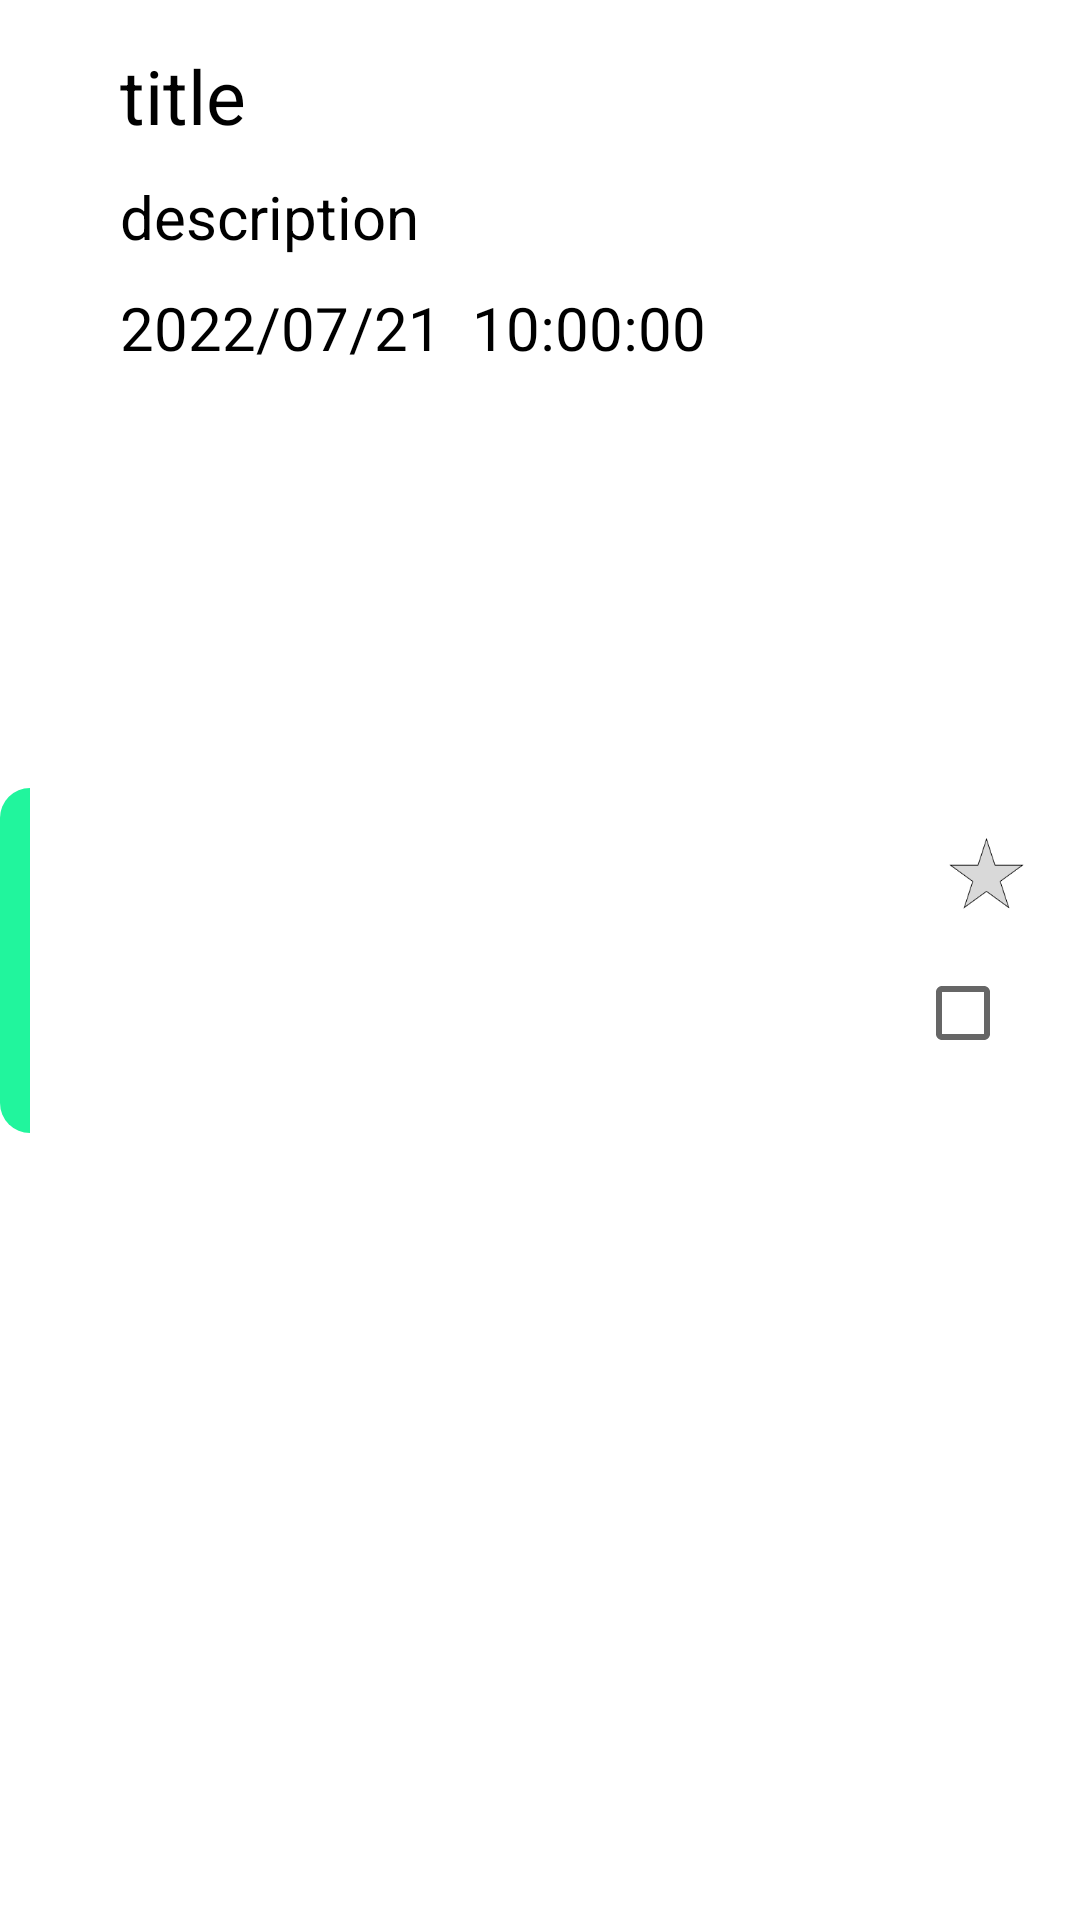

Icon click points for this 1080*1920 phone screenshot, format (x=x, y=y):
favorite unselect: (x=986, y=873)
